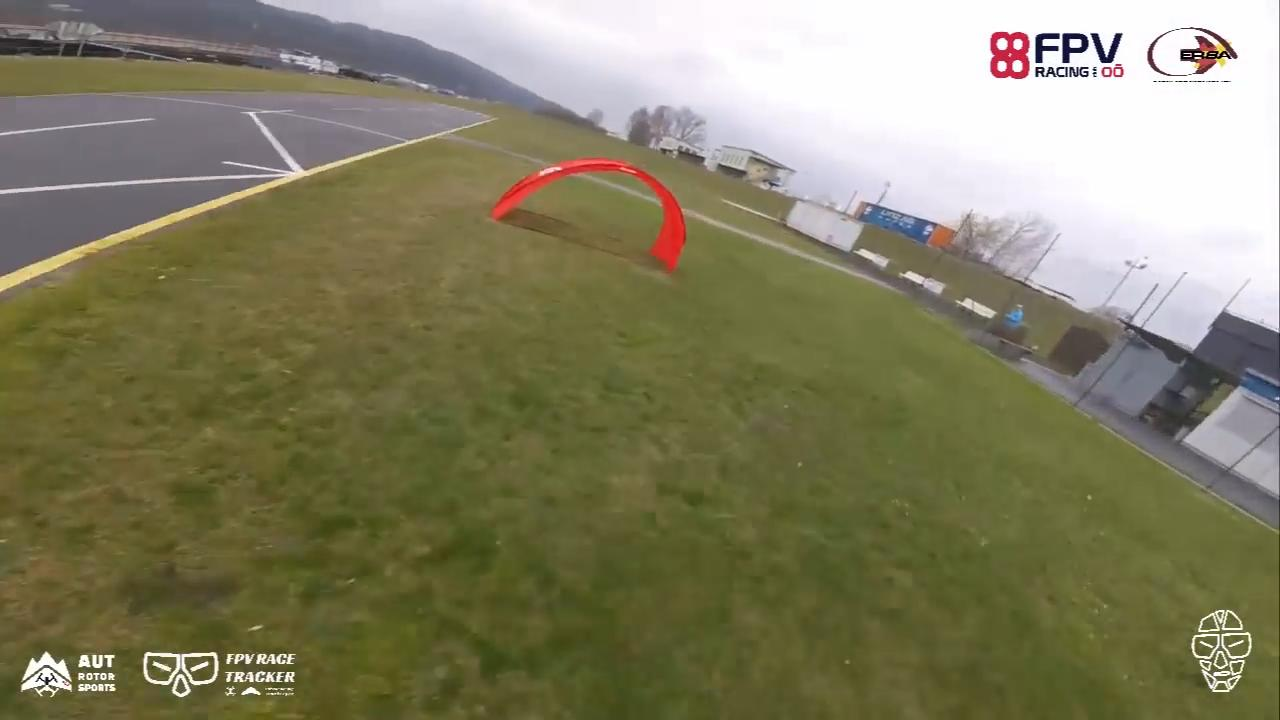gate: (491, 154, 687, 276)
